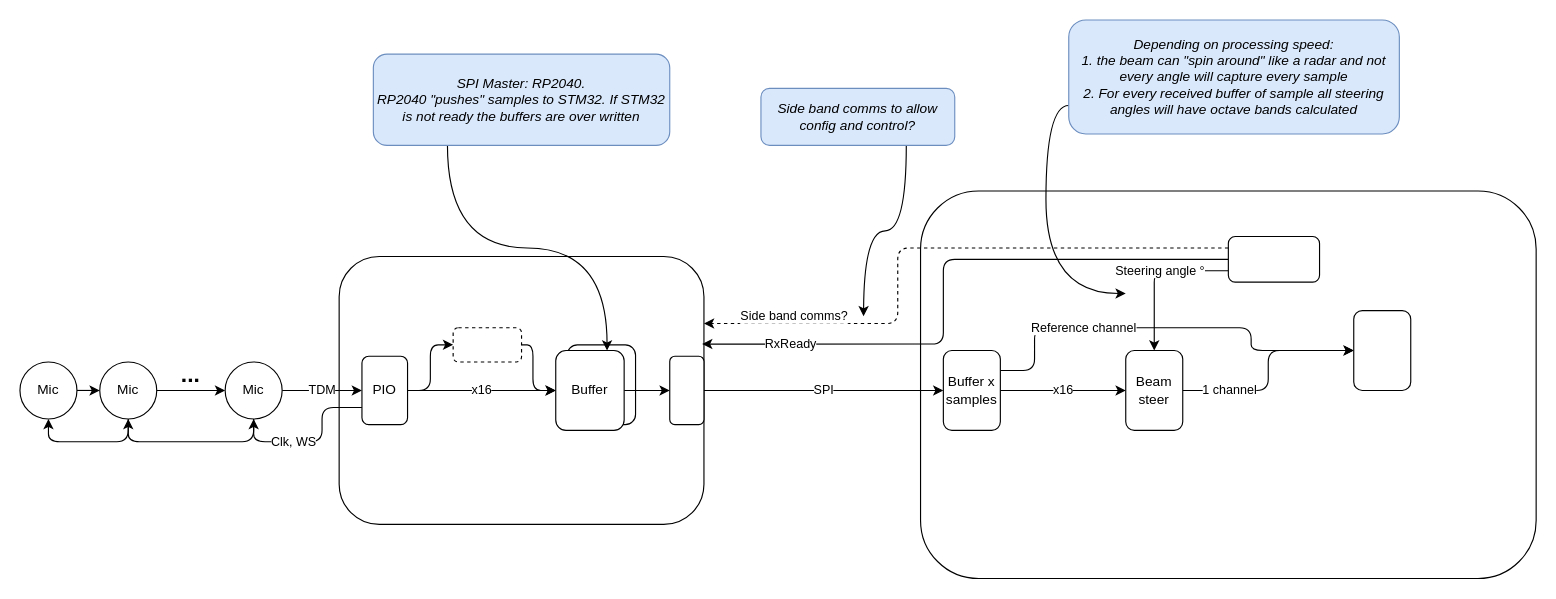
Image size: 1556x599. Some labels were removed from this diagram. The shapes that lost their labels are listed below. From the top down, each one's box as (x1, y1, x2, y2) in pixels, then its label:
(1227, 235, 1320, 282): Controller
(452, 327, 522, 362): Filtering?
(1353, 310, 1411, 390): 1/3 Octave bands
(338, 255, 704, 524): RP2040
(669, 355, 704, 425): Master
(919, 190, 1536, 579): STM32
